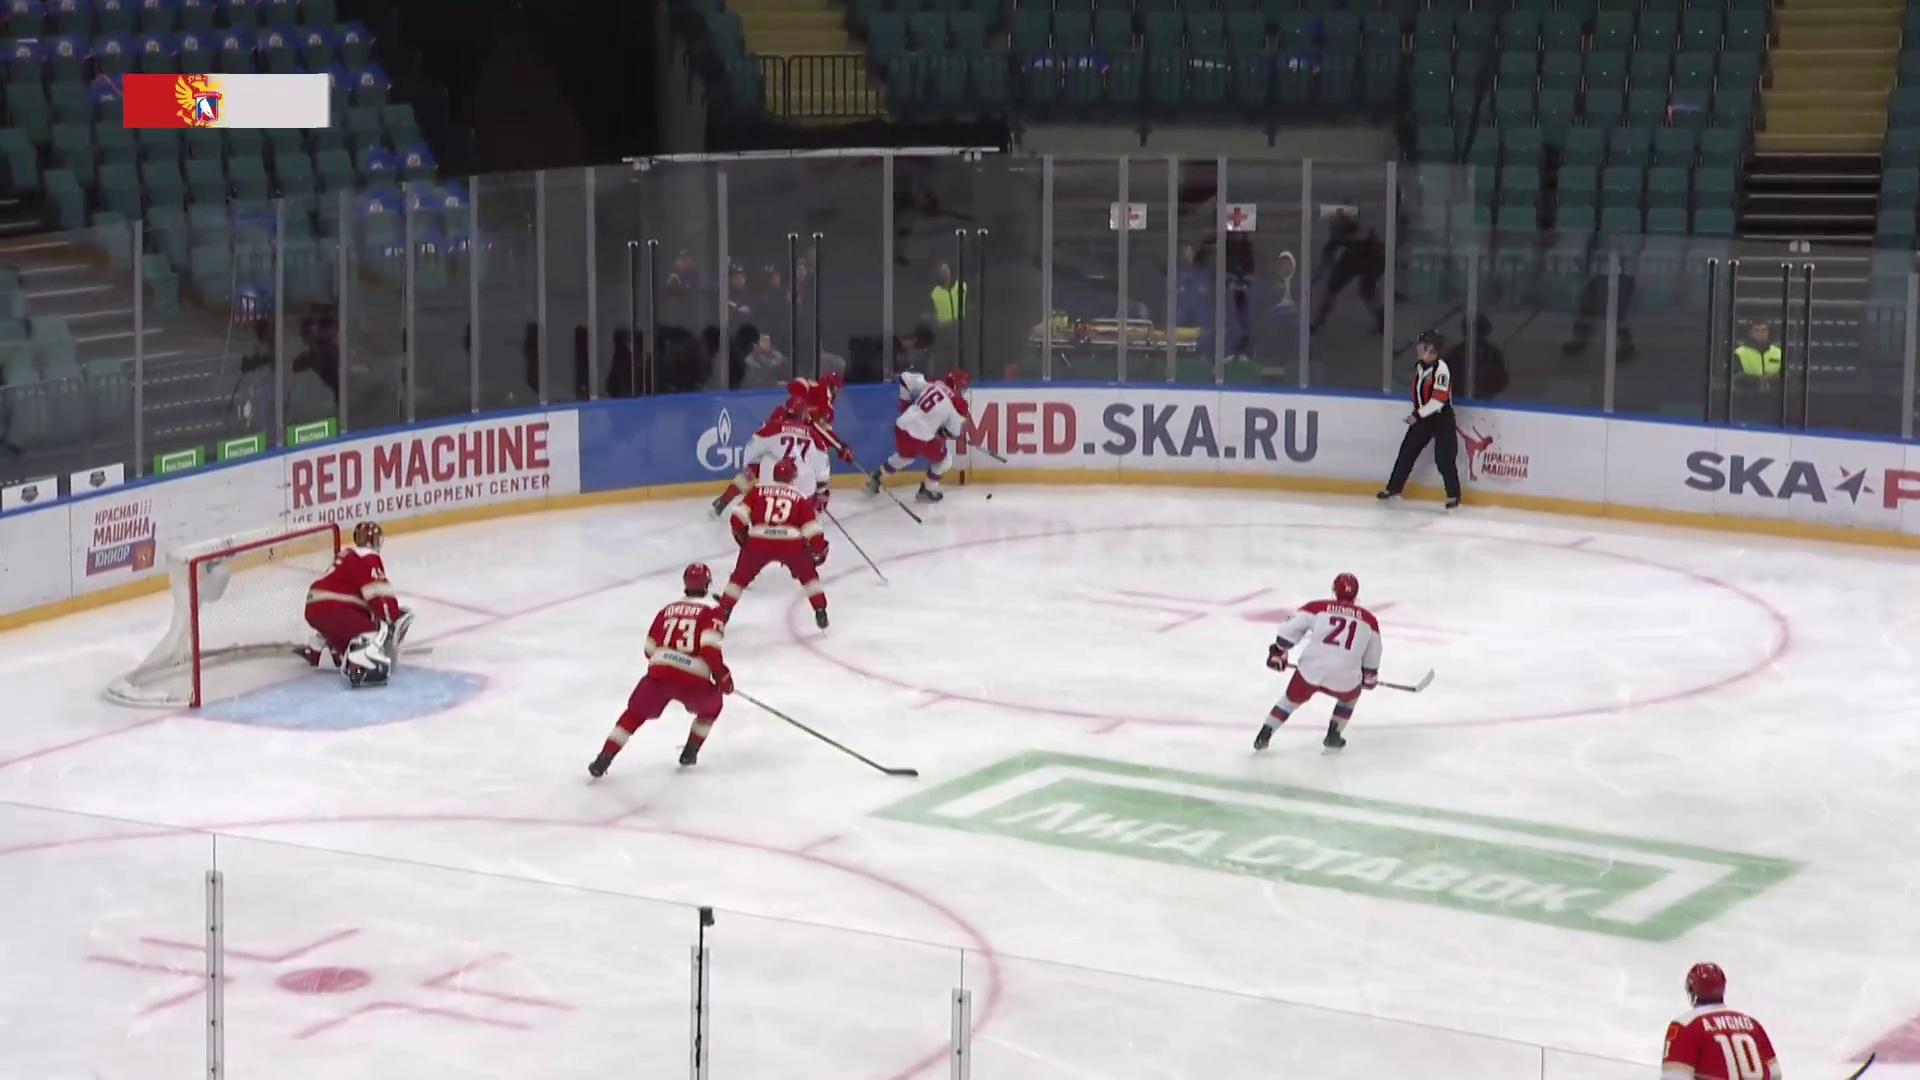ball: (984, 491, 996, 504)
